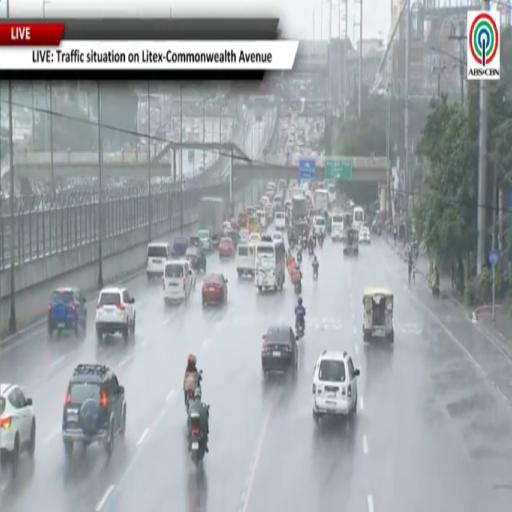bus: (255, 236, 285, 291), (314, 189, 329, 213), (352, 206, 364, 229), (328, 184, 336, 204)
car: (62, 364, 126, 457), (313, 350, 359, 422), (0, 383, 35, 472), (96, 287, 136, 342), (261, 325, 298, 377), (48, 287, 86, 335), (163, 261, 196, 303), (147, 244, 171, 281), (202, 274, 227, 307), (186, 247, 206, 271), (171, 236, 188, 259), (219, 237, 235, 258), (198, 230, 212, 250), (225, 230, 240, 248), (359, 227, 371, 244), (249, 233, 261, 244), (189, 236, 201, 247), (239, 229, 249, 242), (272, 232, 283, 242)
motorcycle: (189, 413, 205, 467), (185, 371, 202, 411), (296, 320, 305, 339), (432, 284, 440, 298), (294, 281, 301, 295), (313, 267, 318, 280), (297, 251, 302, 263), (319, 235, 323, 248), (377, 225, 381, 237), (309, 246, 314, 255), (302, 238, 306, 249)
truck: (198, 198, 225, 246), (314, 188, 329, 213), (292, 196, 307, 219)
